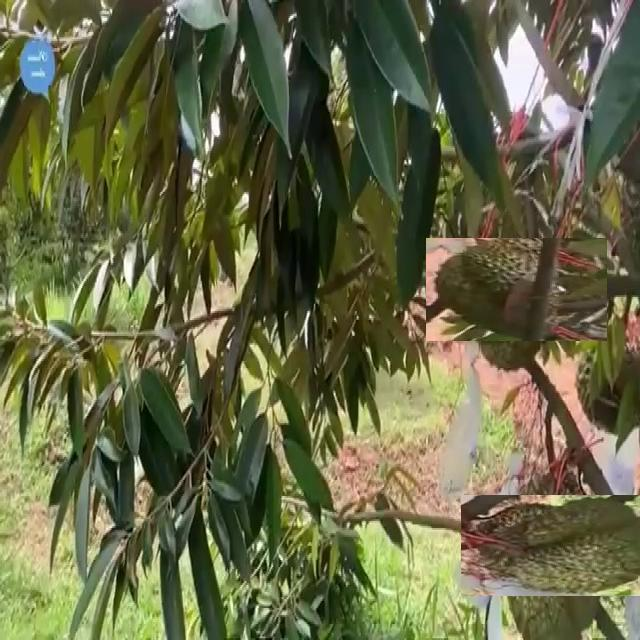durian: (445, 218, 587, 361), (481, 475, 624, 617)
